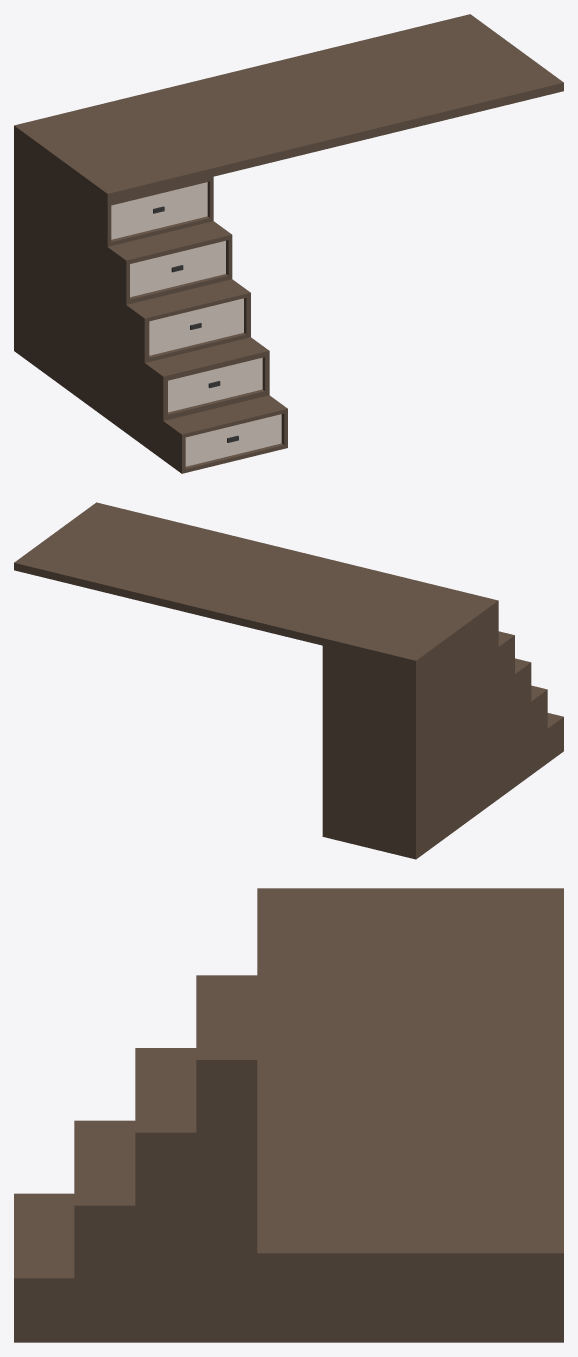
The model's file is Bed_base_2.fbx.
3 views of the same model, one above another, from view 1: azimuth 30°, elevation 25°; view 2: azimuth 150°, elevation 25°; view 3: azimuth 270°, elevation 25° (orthographic). The views are drawn at different scales.
Parts seen in each view (by area): view 1: Bed_base_2; view 2: Bed_base_2; view 3: Bed_base_2.
Part boxes in pixels (<box>): Bed_base_2: <box>14,14,563,473</box>; Bed_base_2: <box>14,502,563,859</box>; Bed_base_2: <box>14,888,563,1342</box>.
Bounding box in the file's own units: 489 × 312 × 231.
